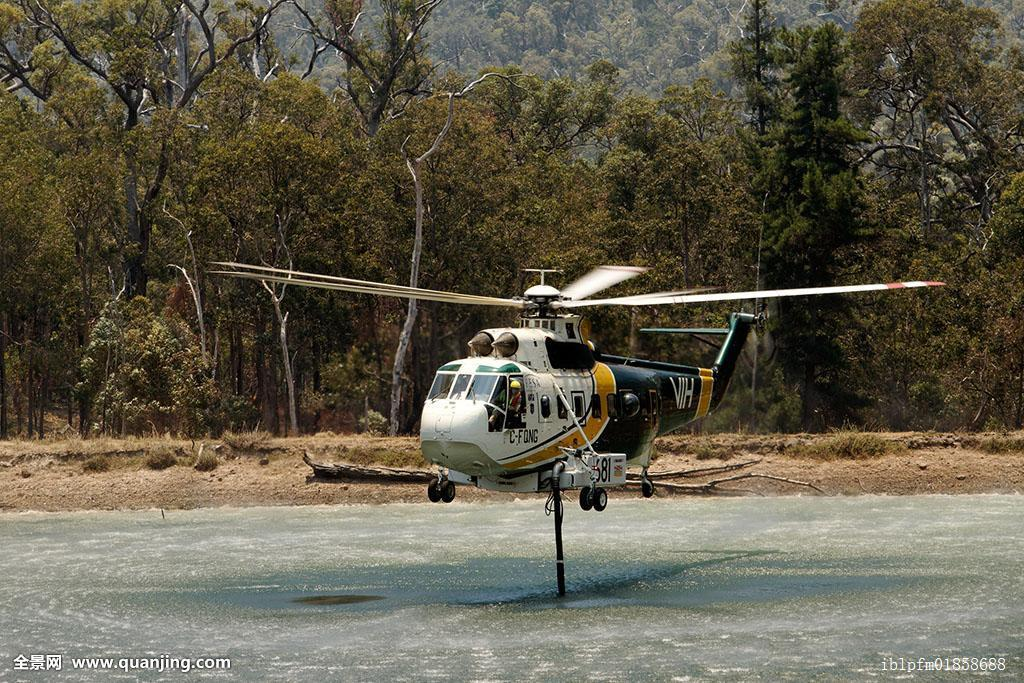airplane: (198, 241, 957, 518)
